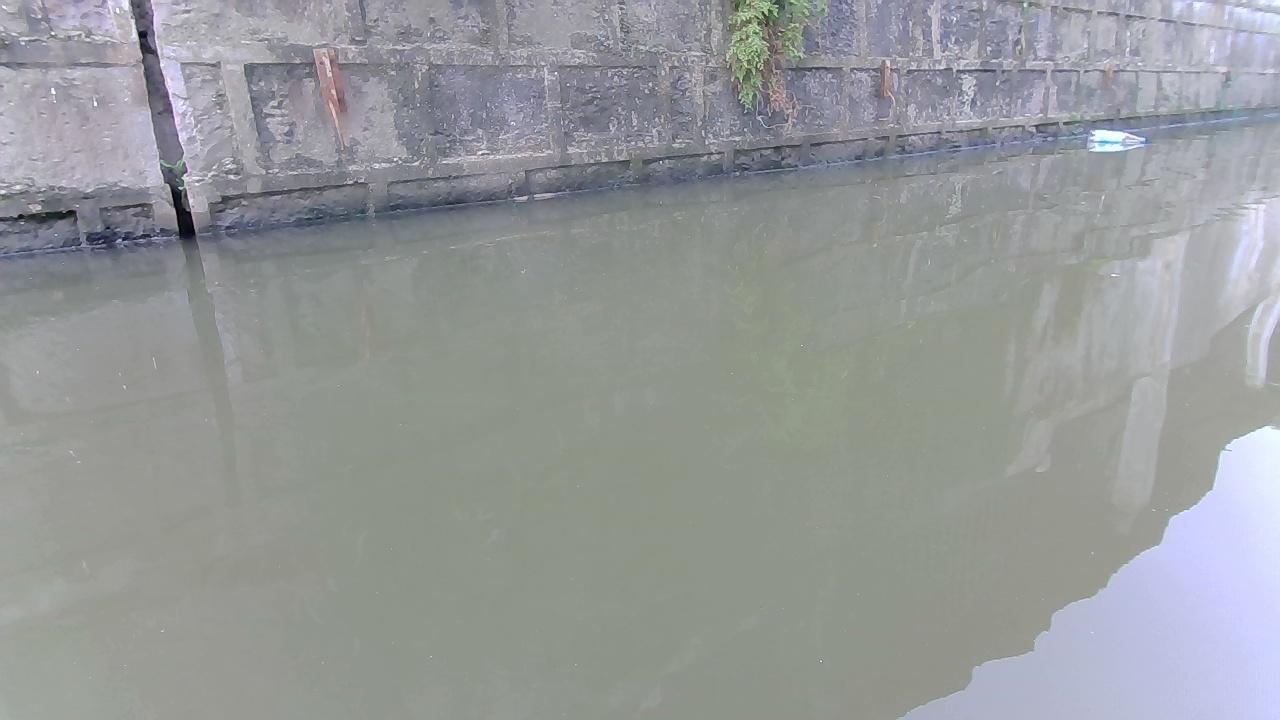bottle: (1081, 123, 1154, 154)
